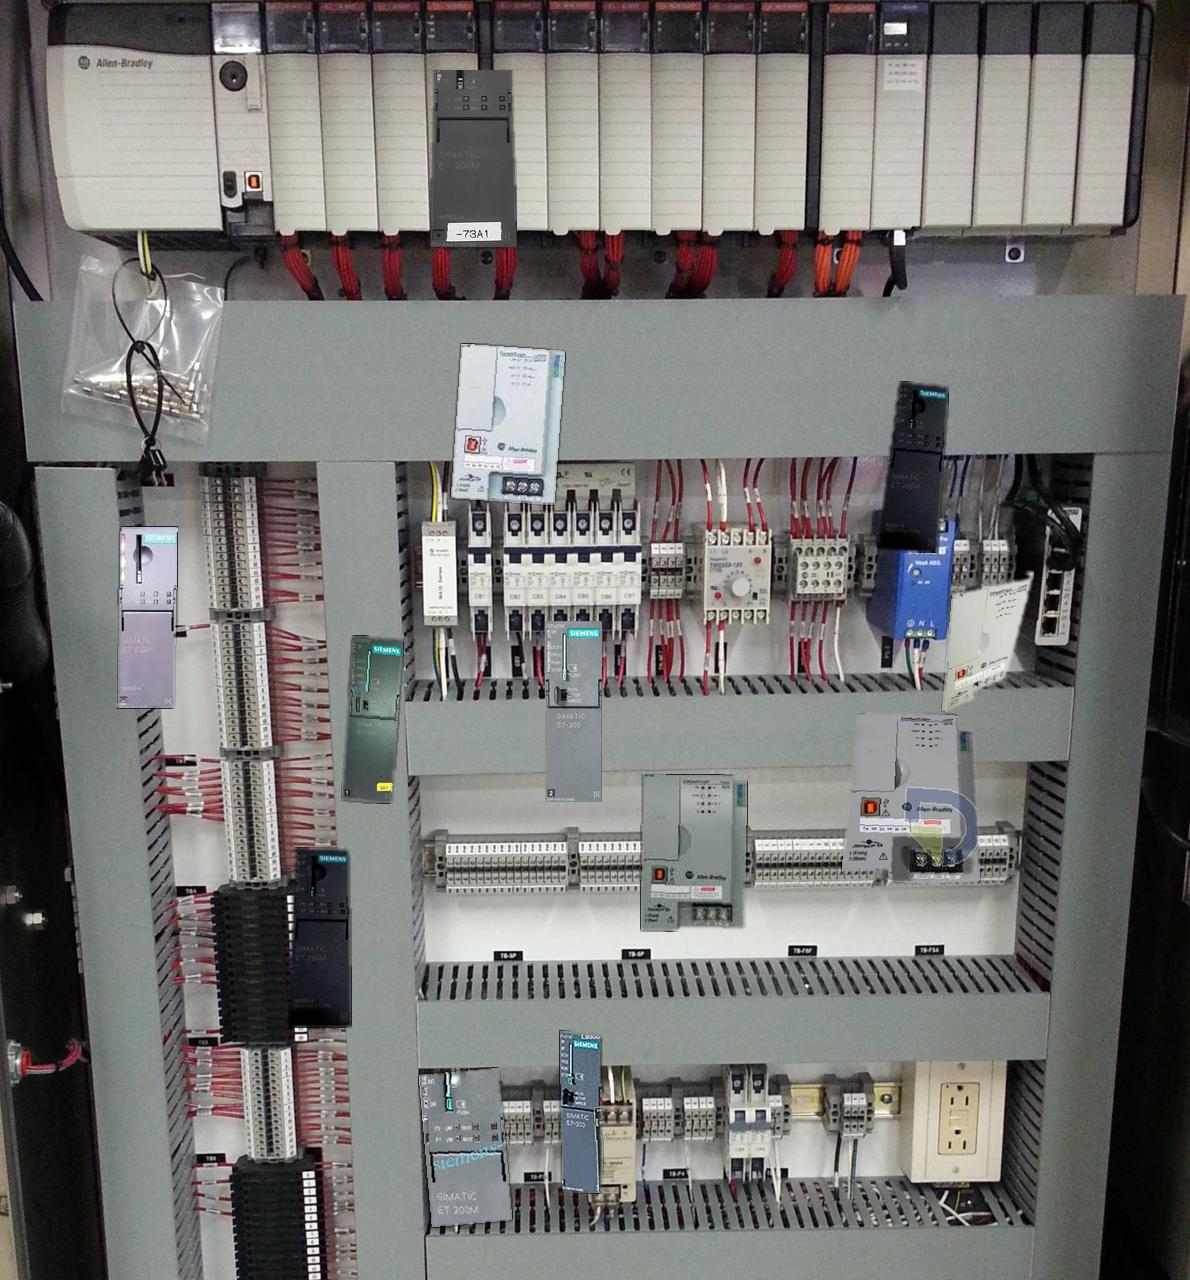AllenBradley: (842, 713, 979, 881), (451, 344, 564, 503), (641, 774, 746, 930), (943, 571, 1033, 710)
Siemens: (545, 622, 601, 802), (342, 635, 403, 802), (560, 1031, 601, 1192)
